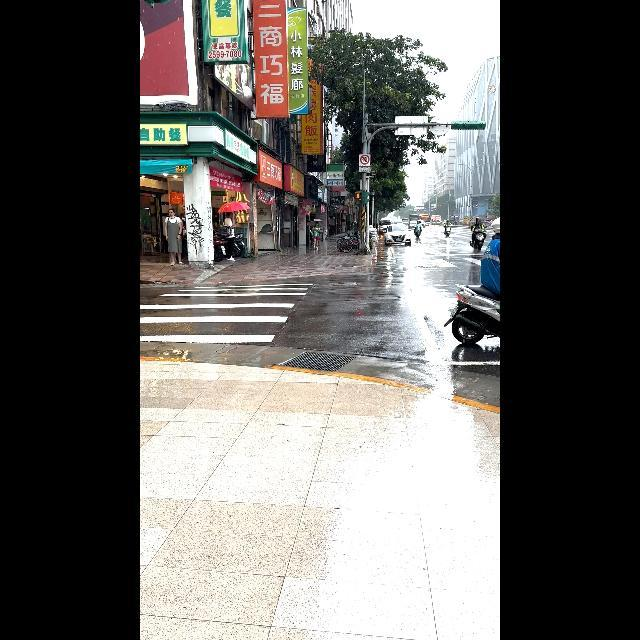sidewalk: (140, 281, 316, 346)
